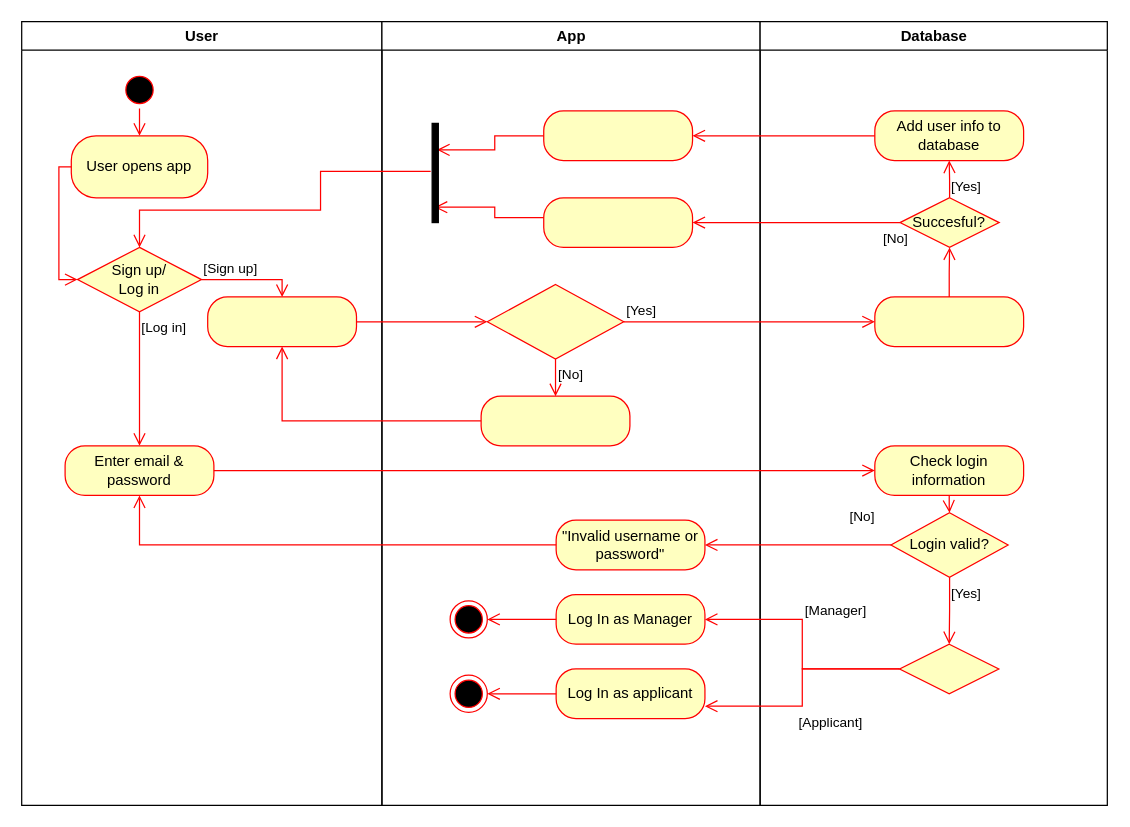
Some shapes in this 1130 by 827 pixel diagram are drawn without their labels. The shapes that lost their labels are listed below. From the top down, each one's box as (x1, y1, x2, y2) in pixels, then its label:
(542, 110, 693, 161): "Account created successfully"
(542, 197, 693, 247): "Error Registerign User"
(206, 296, 356, 347): Enter email, password, info
(486, 283, 624, 359): email & password vaild?
(874, 296, 1024, 347): Register user
(480, 395, 630, 446): "Invalid email/password"
(898, 643, 999, 694): Role?
